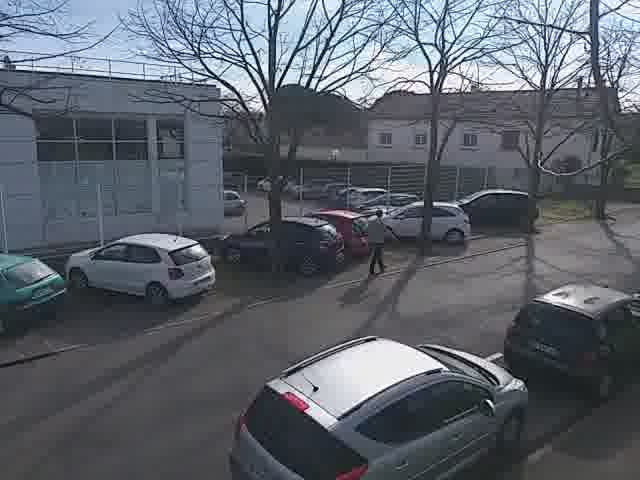persona: (363, 198, 398, 278)
